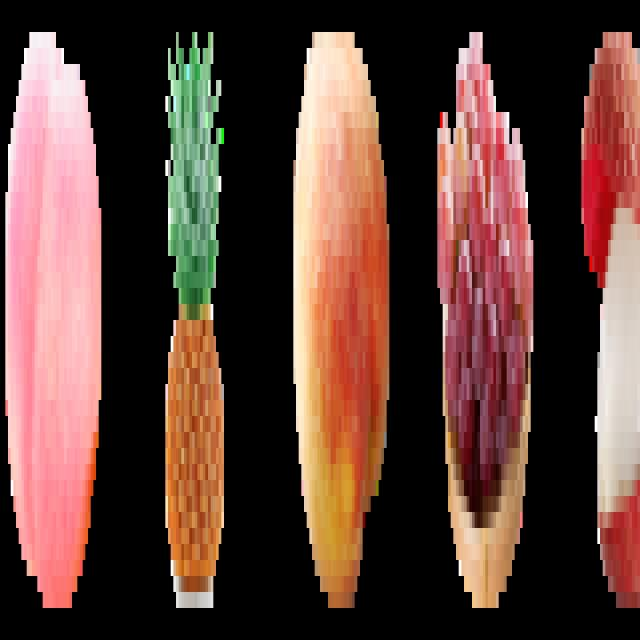grape: (431, 13, 538, 609)
peach: (286, 12, 392, 614), (2, 12, 105, 628)
pineapples: (154, 16, 236, 615)
